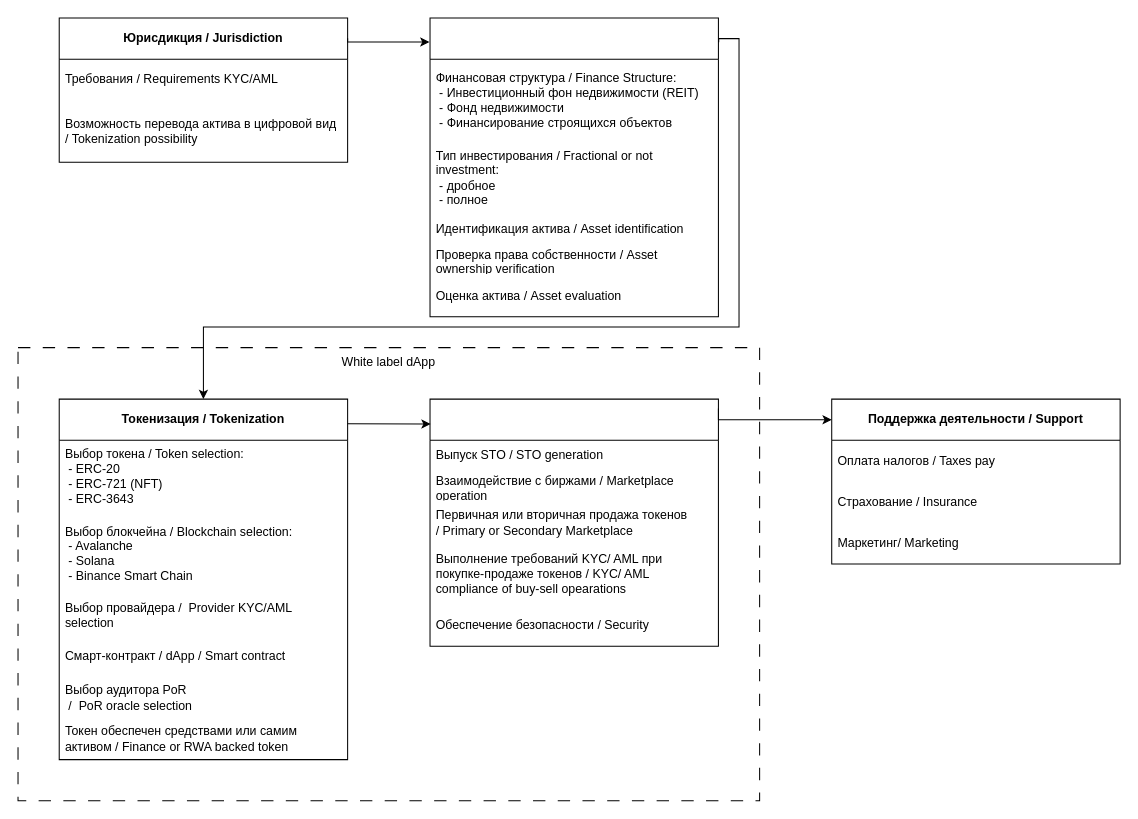
Some shapes in this 1138 by 819 pixel diagram are drawn without their labels. The box of each missing label's shape, as (x1, y1, x2, y2) in pixels:
Оцифровка актива / Real estate digitizing: (429, 17, 718, 317)
Распространение / Distribution: (429, 398, 718, 646)
